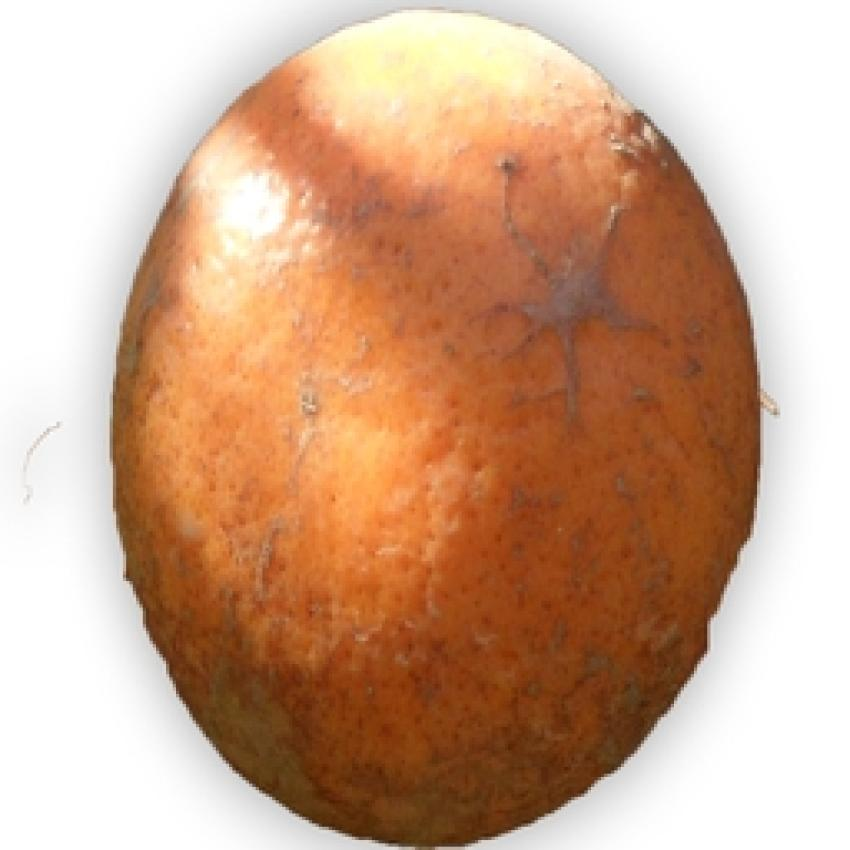Mal estado: (68, 2, 769, 845)
